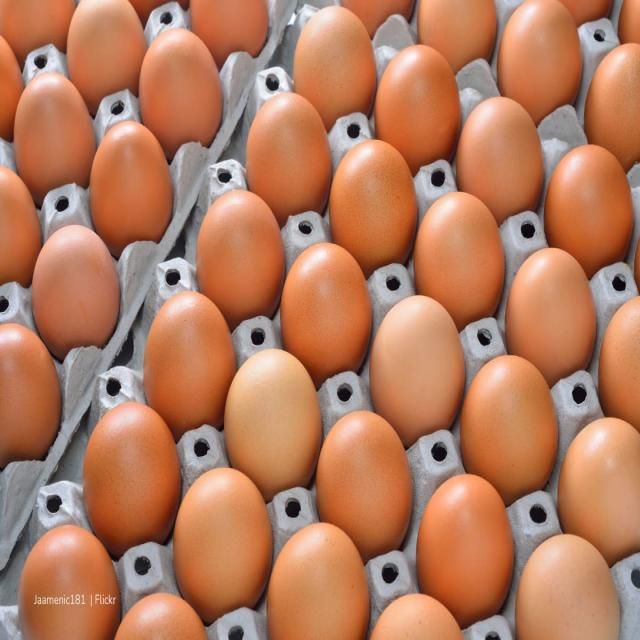huevos: (188, 182, 284, 334)
